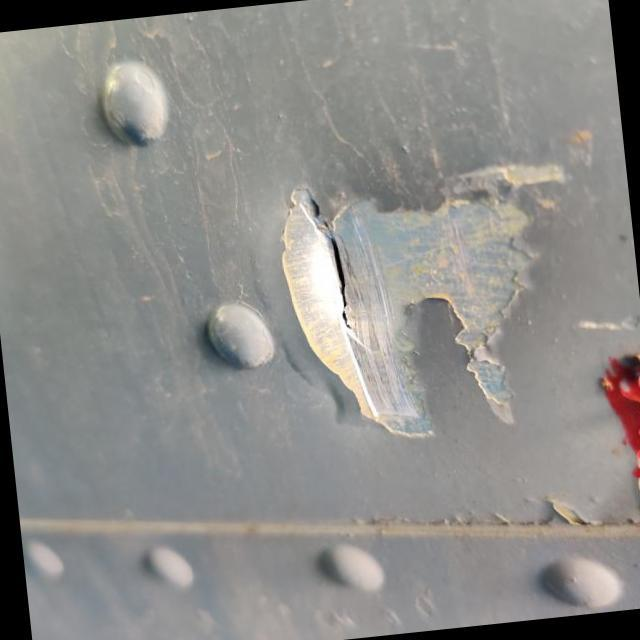Rupture: (288, 172, 382, 364)
